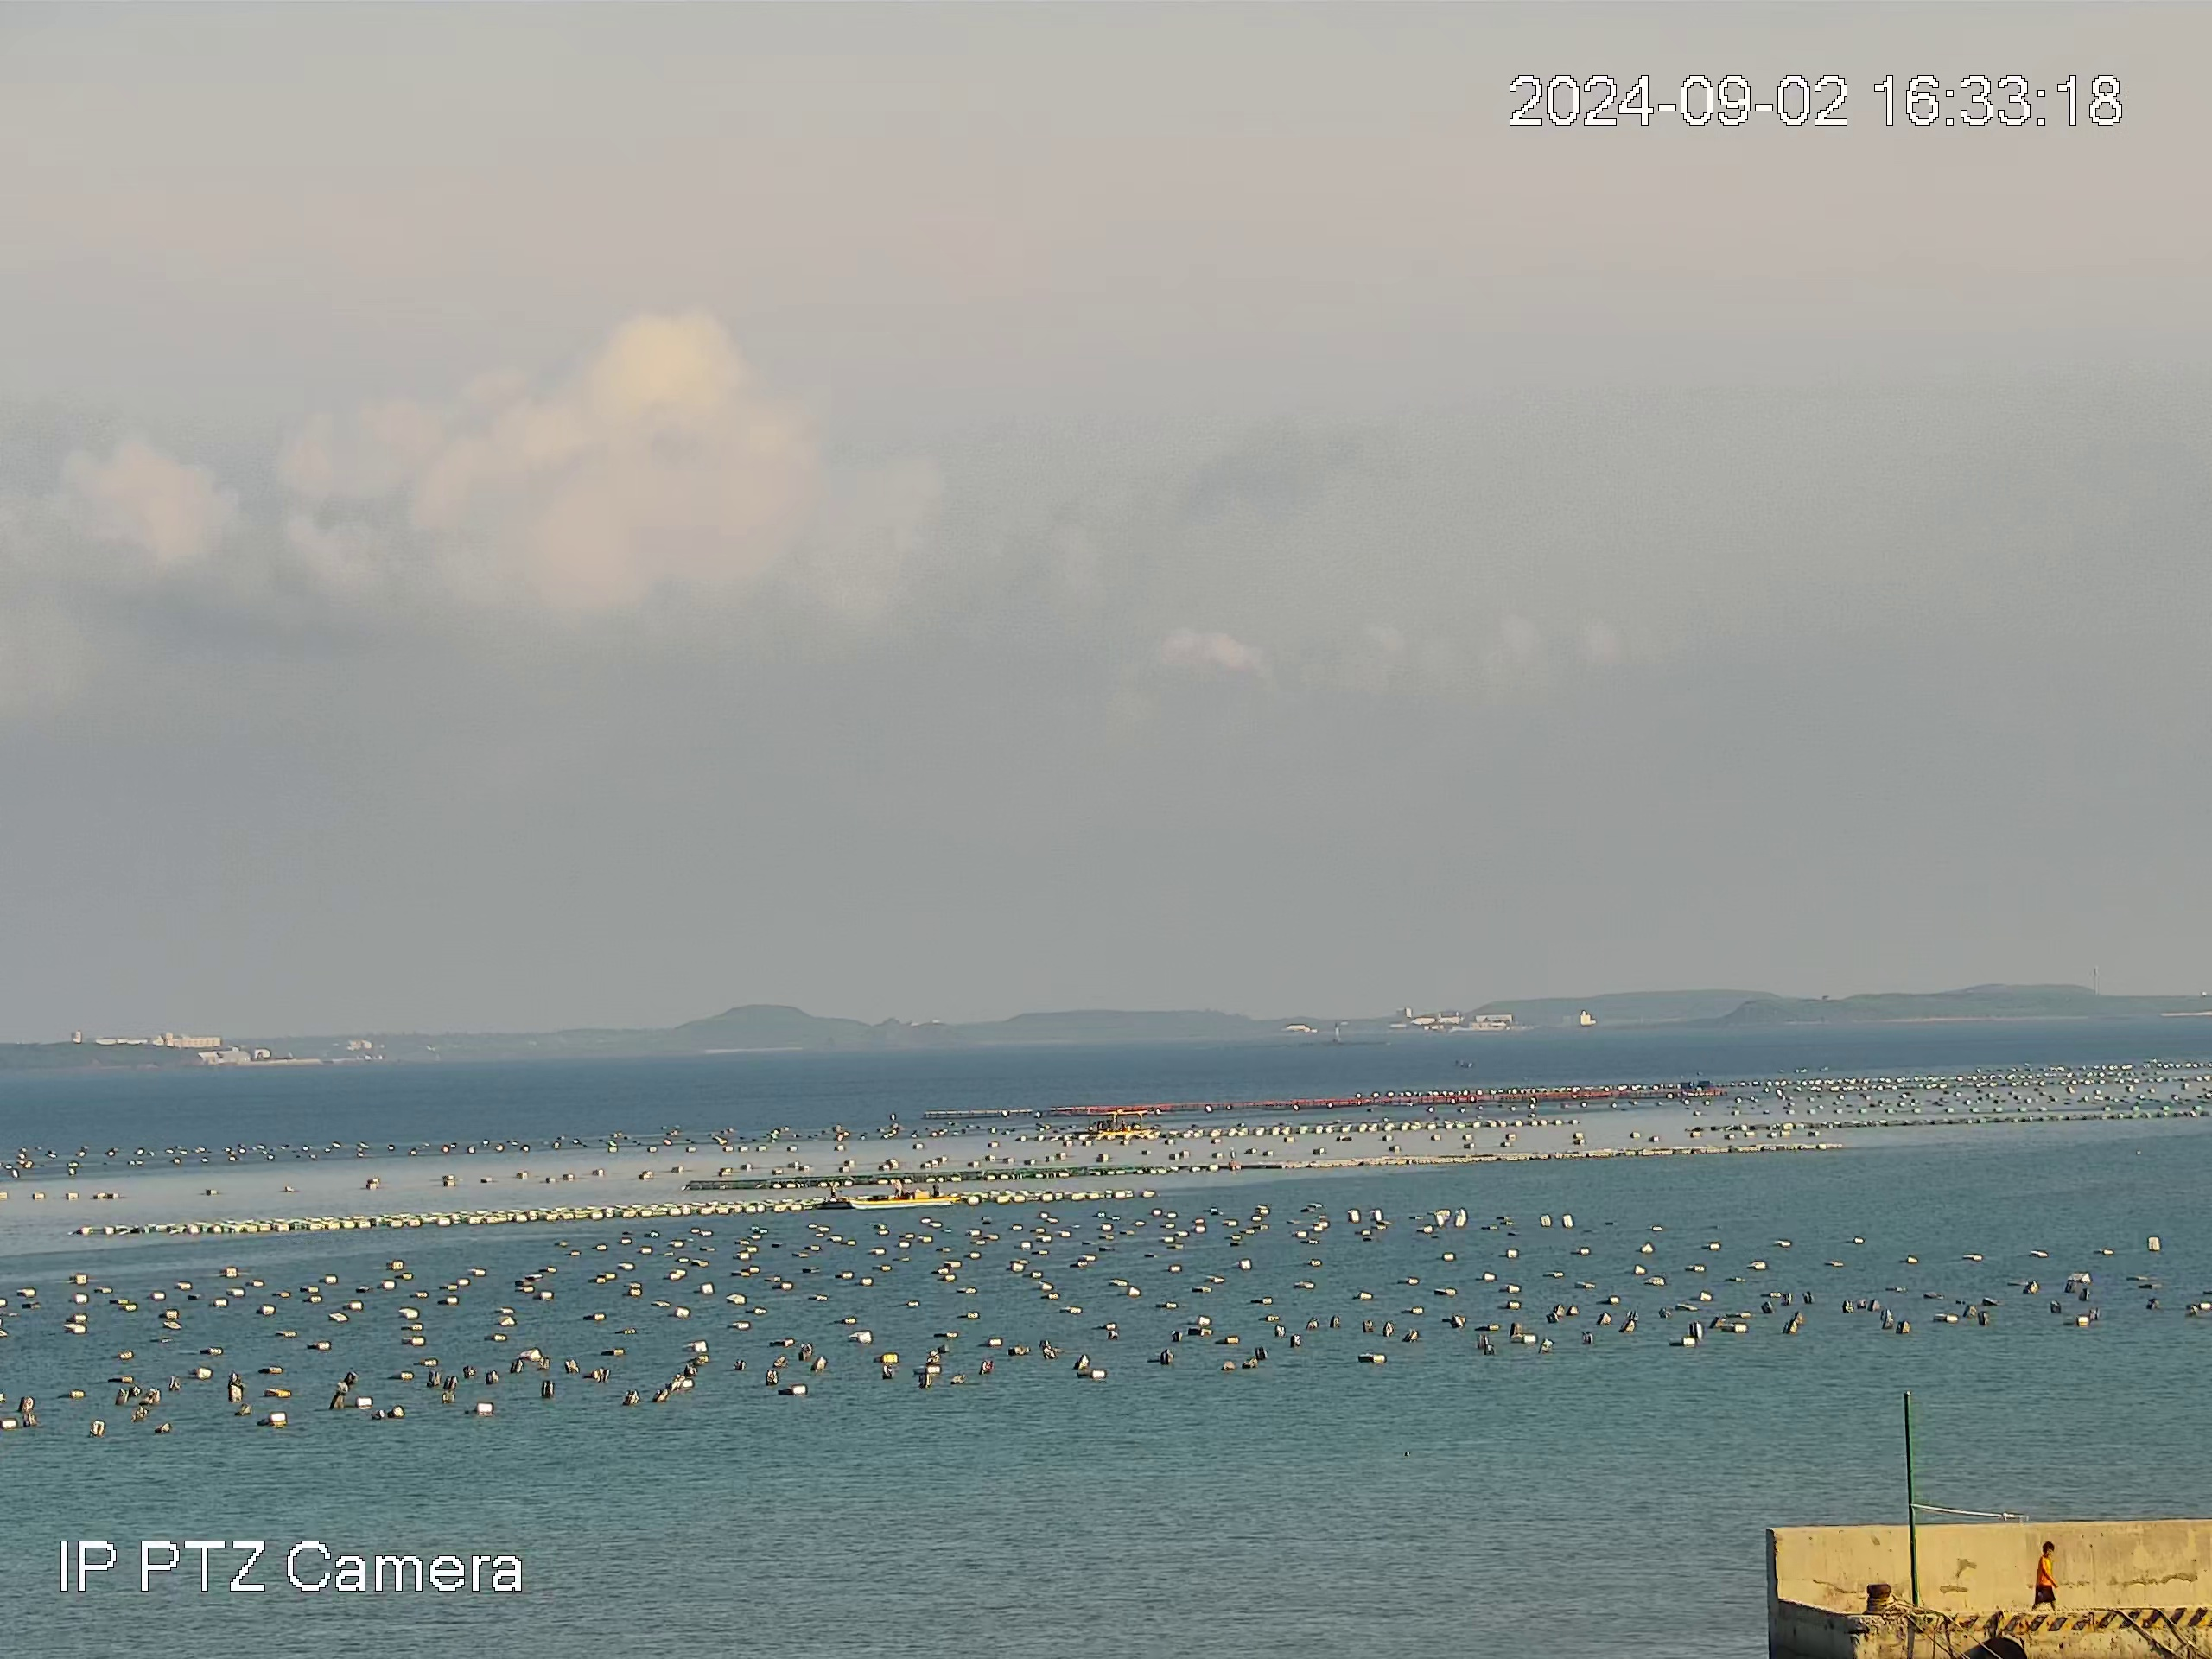boat: (845, 1178, 961, 1211), (1094, 1108, 1151, 1134)
